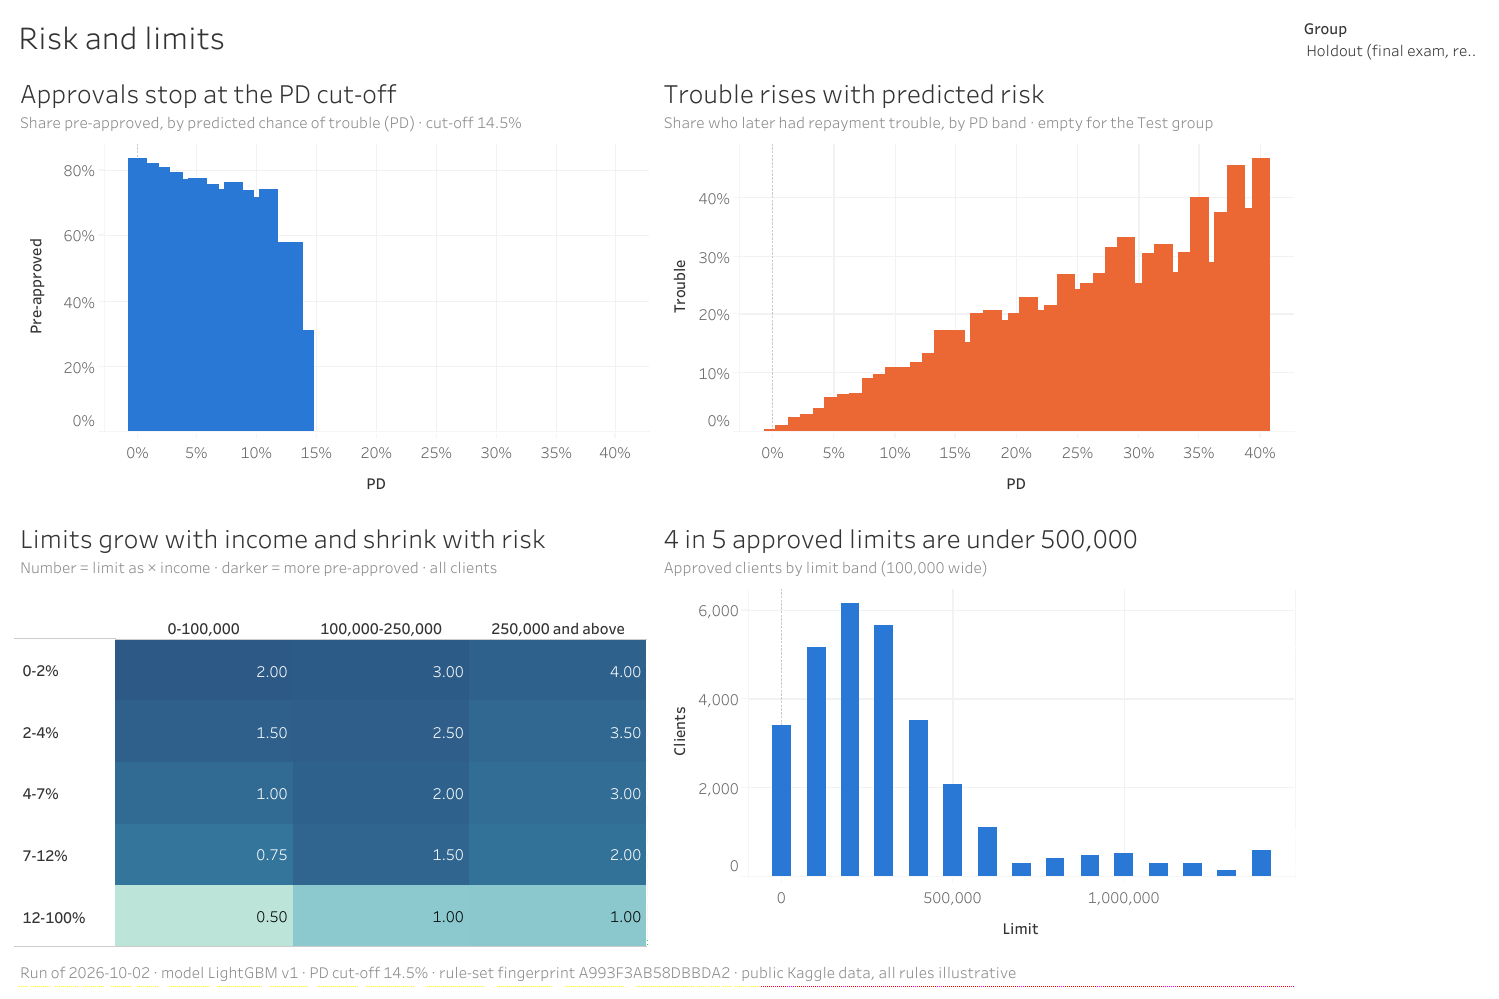

What the dashboard file says about the page in this screenshot:
{"tool":"tableau","page":{"name":"3 - Risk and limits","canvas":[1200,800],"ordinal":2},"visuals":[{"type":"title","box":[8,8,1031,50]},{"type":"parameter","param":"[Parameters].[Parameter 0193564081881089]","box":[1039,8,153,56]},{"type":"worksheet","title":"Approval by PD","mark":"Bar","rows":["approval_rate"],"cols":["pd_from"],"box":[8,58,515.5,352]},{"type":"worksheet","title":"Trouble by PD","mark":"Bar","rows":["Calculation_0194000000000000104"],"cols":["pd_from"],"box":[523.5,58,515.5,352]},{"type":"worksheet","title":"Limit grid","mark":"Square","rows":["pd_band"],"cols":["income_band"],"box":[8,410,515.5,352]},{"type":"worksheet","title":"Approved limits","mark":"Bar","rows":["clients"],"cols":["limit_from"],"box":[523.5,410,515.5,352]},{"type":"worksheet","title":"Run footer","mark":"Text","box":[8,762,1031,30]}]}

Visuals, with their boxes in screenshot pixels (x1, y1, x2, y2), scaled from the page's 1200x800 canvas onto the 1499x999 screenshot:
title: [10, 10, 1298, 72]
parameter: [1298, 10, 1489, 80]
"Approval by PD" worksheet (Bar marks): [10, 72, 654, 512]
"Trouble by PD" worksheet (Bar marks): [654, 72, 1298, 512]
"Limit grid" worksheet (Square marks): [10, 512, 654, 952]
"Approved limits" worksheet (Bar marks): [654, 512, 1298, 952]
"Run footer" worksheet (Text marks): [10, 952, 1298, 989]
